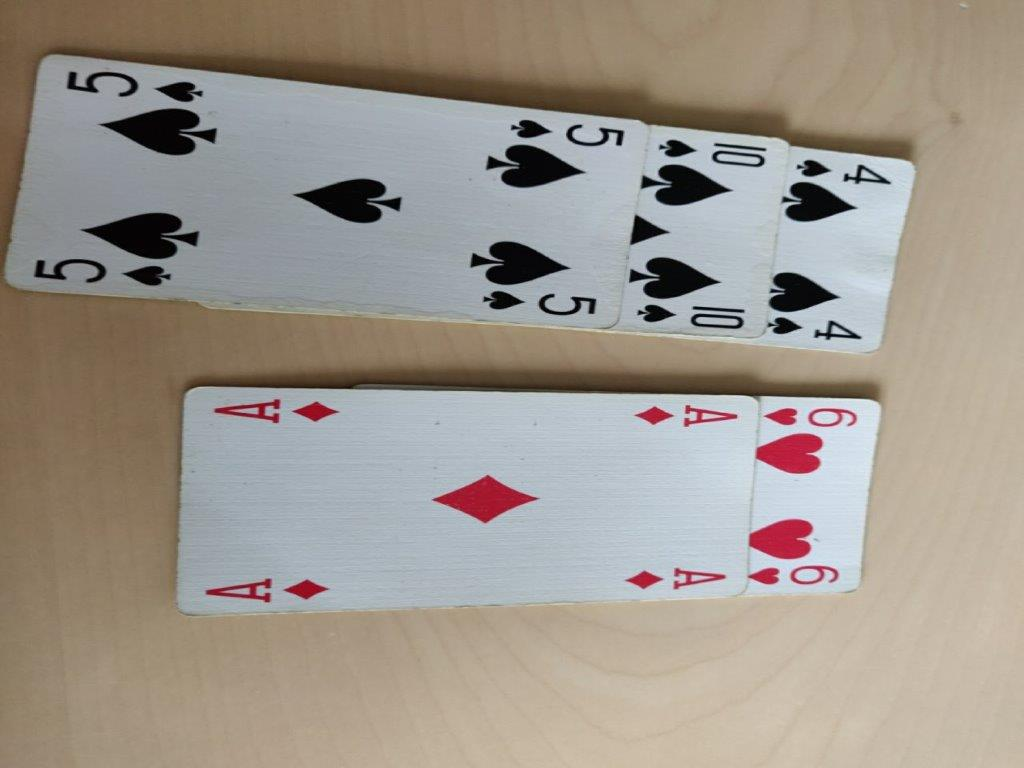10S: (628, 114, 774, 355)
4S: (774, 134, 905, 361)
5S: (13, 63, 623, 345)
6H: (743, 399, 883, 596)
AD: (174, 390, 748, 609)
